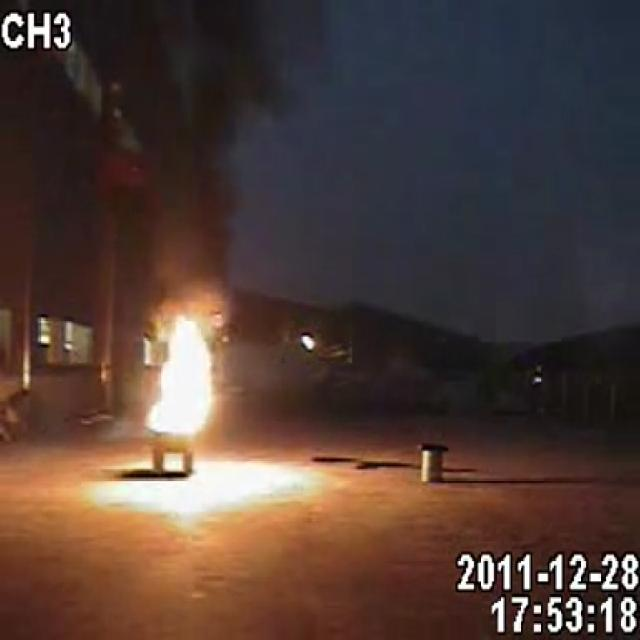Fire: (149, 294, 220, 440)
